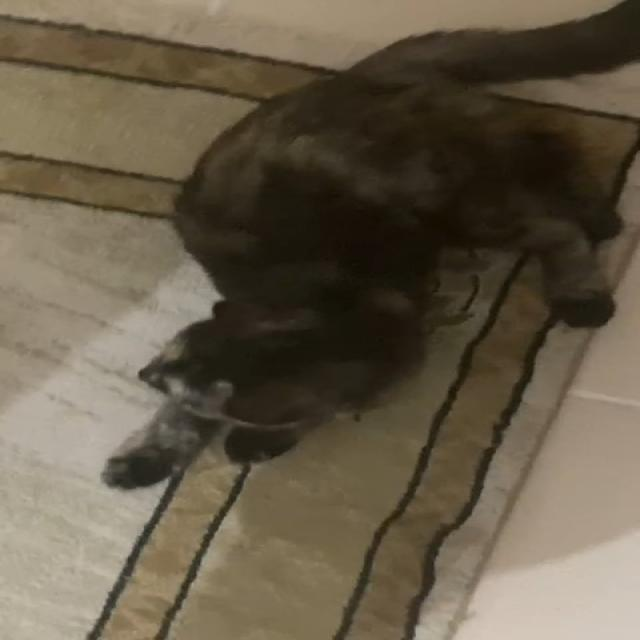authorized: (99, 0, 638, 491)
